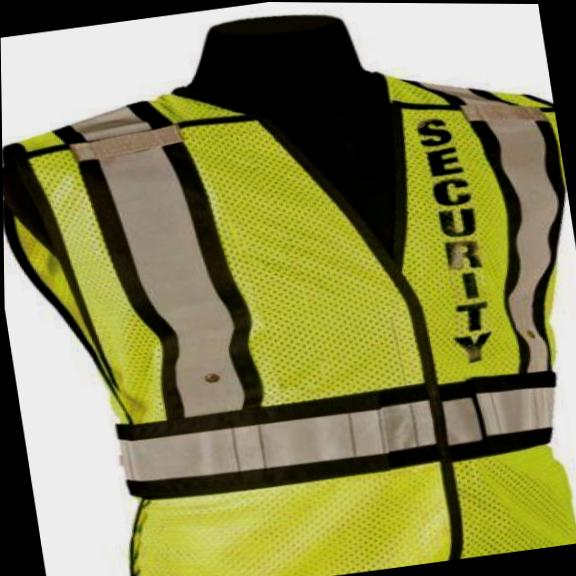safety_vest: (0, 32, 576, 576)
